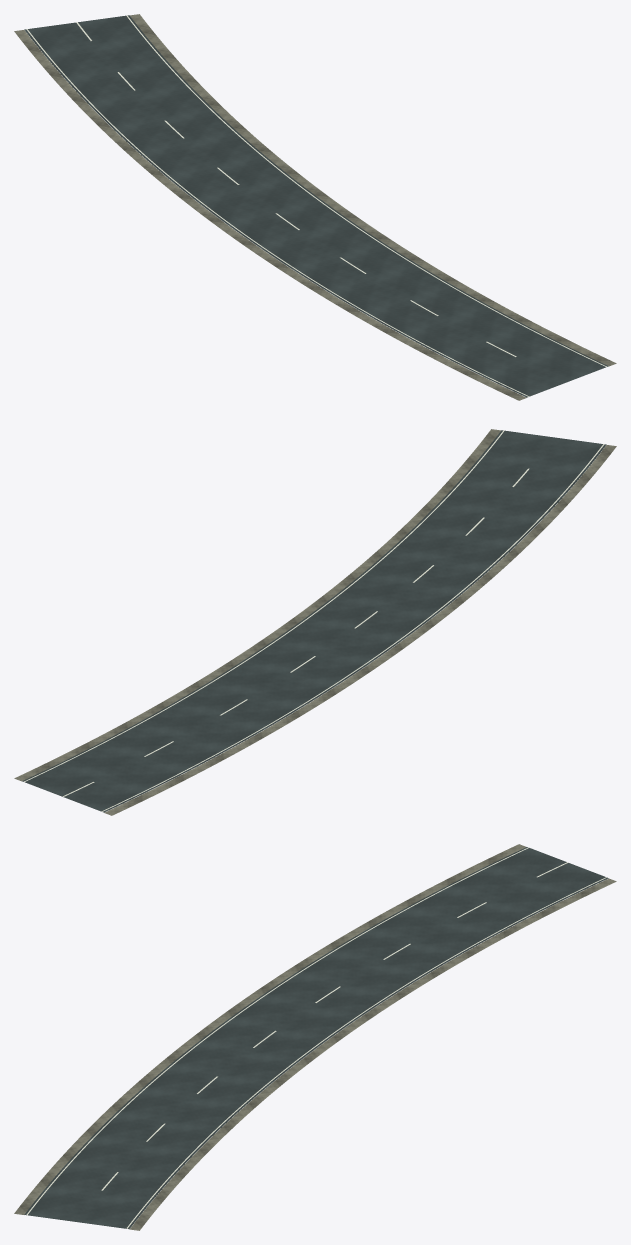
The model's file is road_asphalt_two_lane_curve_64m.glb.
3 views of the same model, one above another, from view 1: azimuth 30°, elevation 25°; view 2: azimuth 150°, elevation 25°; view 3: azimuth 330°, elevation 25° (orthographic).
Parts seen in each view (by area): view 1: road_surface, static_gravel, static_road_marking; view 2: road_surface, static_gravel, static_road_marking; view 3: road_surface, static_gravel, static_road_marking.
Boxes of the visible parts, left/top/right/bottom form: road_surface: left=24, top=15, right=608, bottom=397; static_gravel: left=14, top=14, right=616, bottom=400; static_road_marking: left=26, top=15, right=606, bottom=396; road_surface: left=22, top=430, right=606, bottom=812; static_gravel: left=14, top=429, right=616, bottom=815; static_road_marking: left=24, top=430, right=604, bottom=811; road_surface: left=24, top=847, right=608, bottom=1228; static_gravel: left=14, top=844, right=616, bottom=1230; static_road_marking: left=26, top=847, right=606, bottom=1228.
Size of the model in its own units: 11.99 by 0.027 by 65.81.
Materials: 3 (2 with a texture image).
